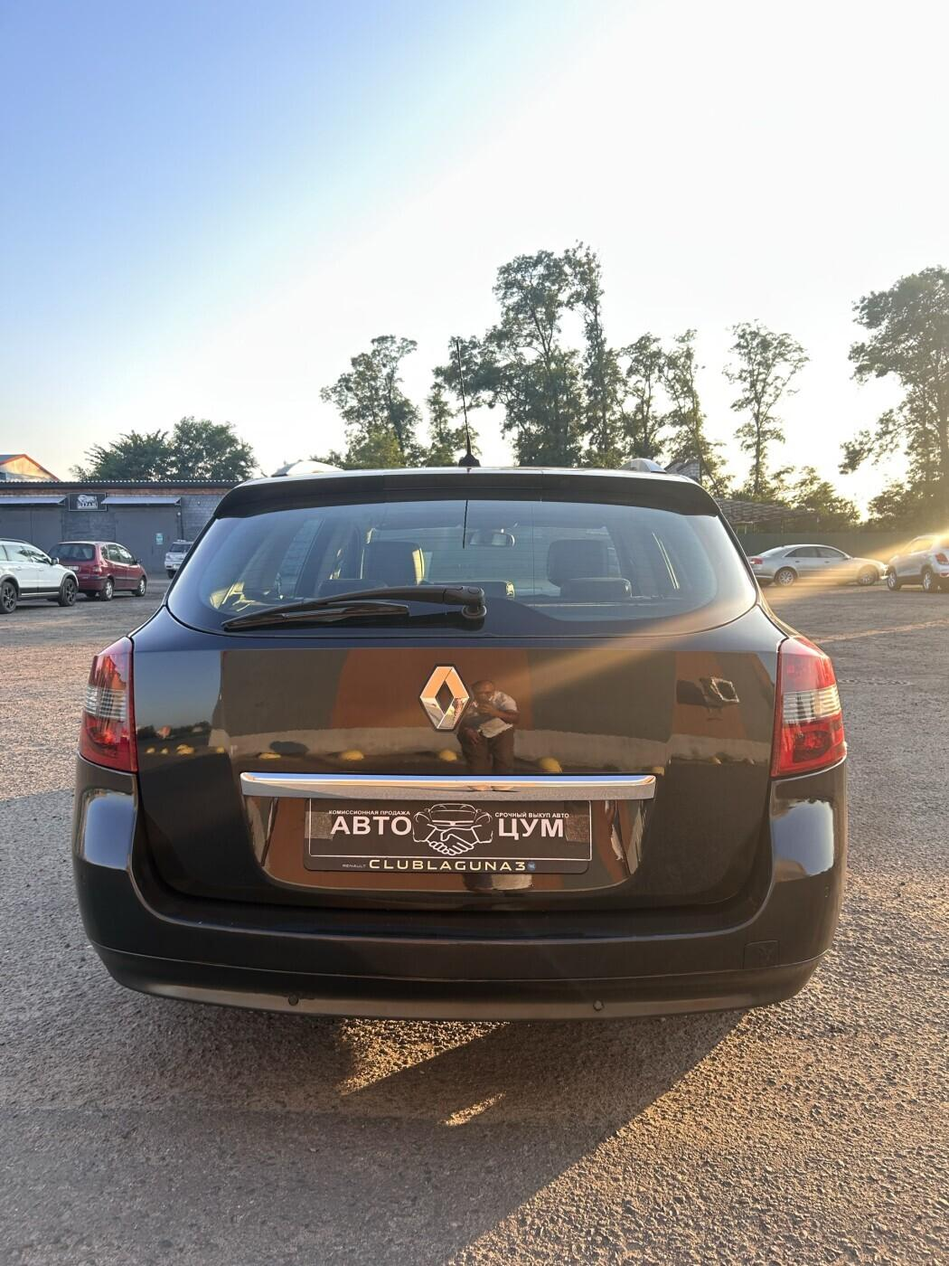Laguna_2007-2011: (72, 467, 846, 1017)
